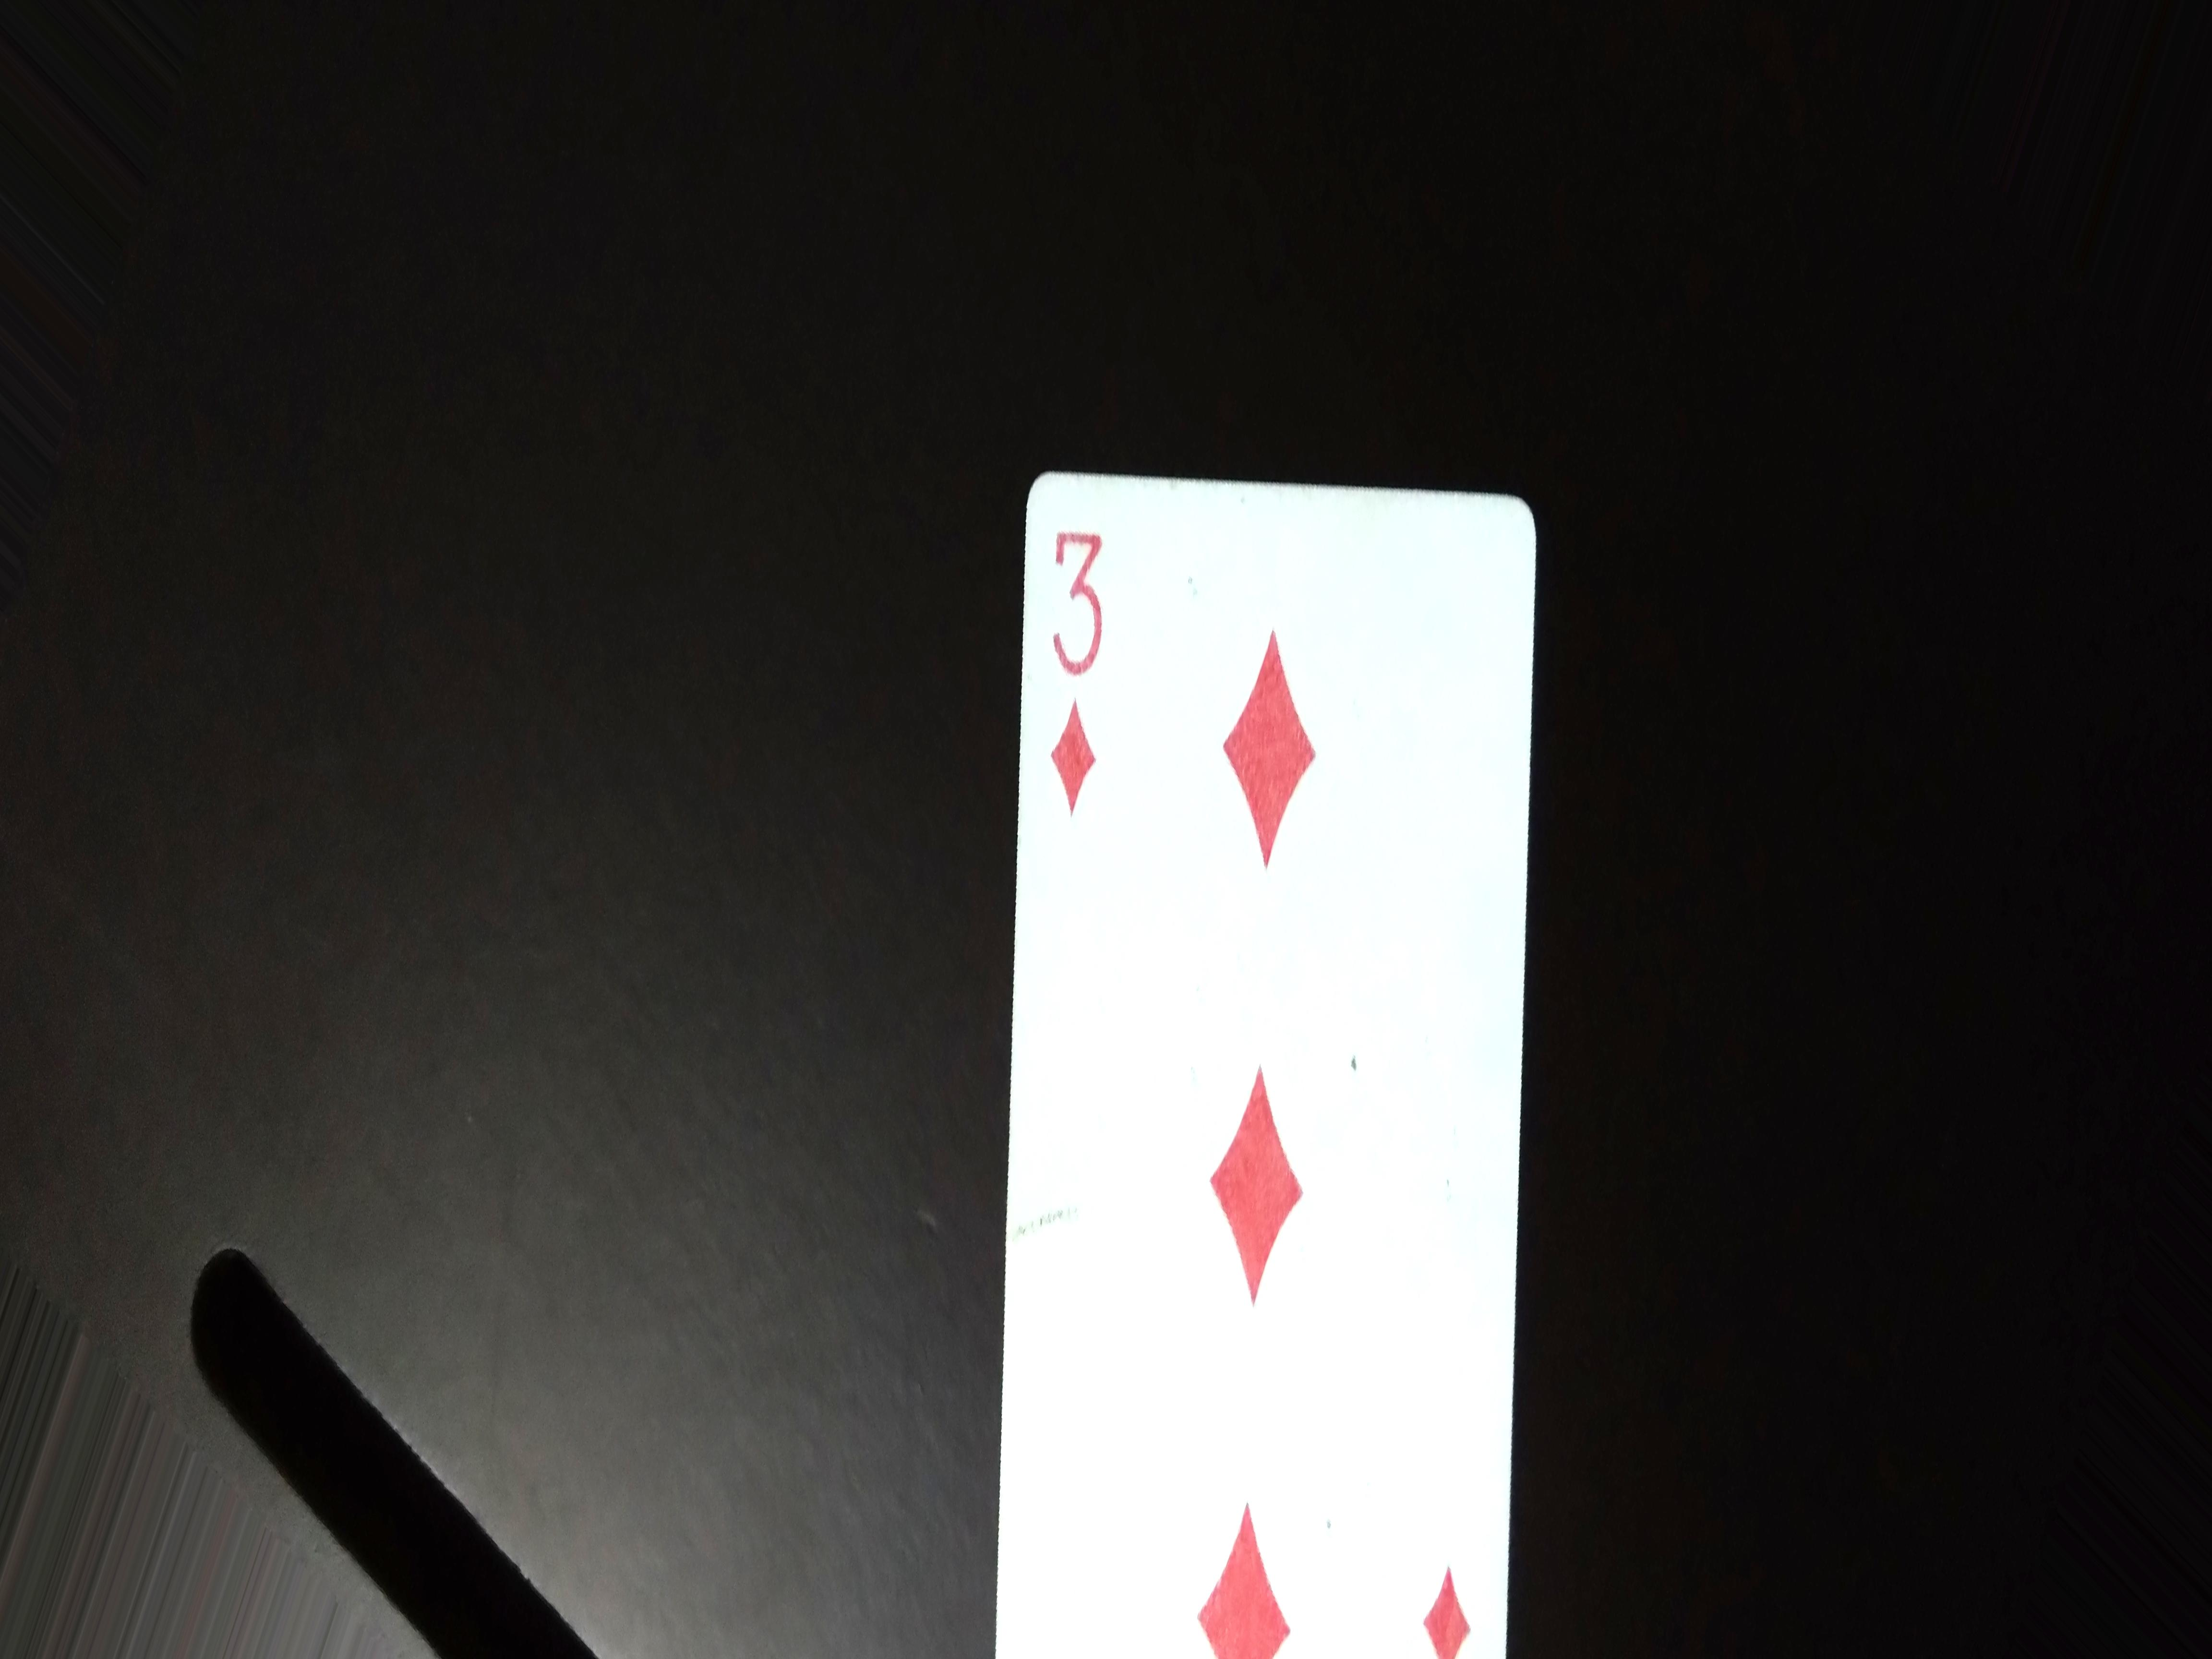3D: (1038, 491, 1129, 821)
